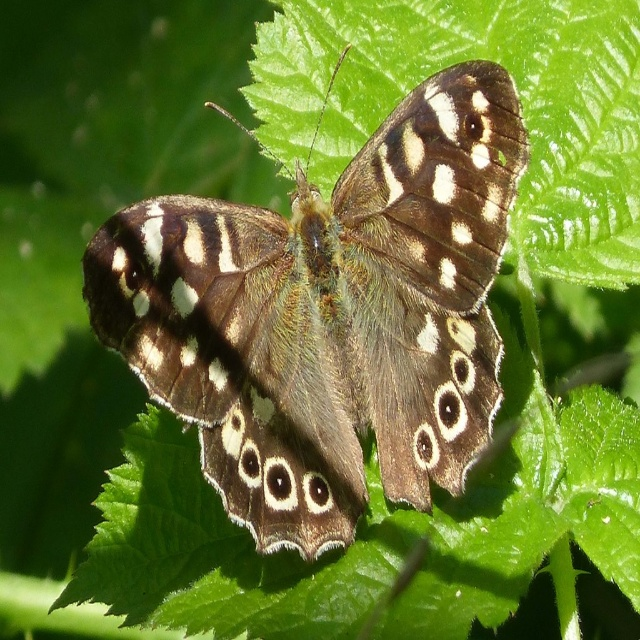Butterfly: (79, 42, 530, 562)
